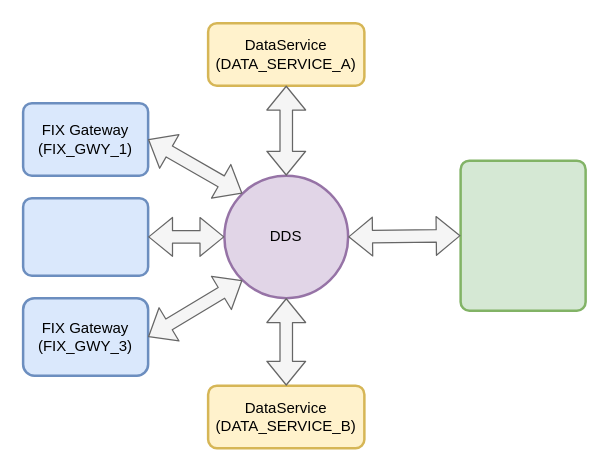
Image size: 608x470. Some labels were removed from this diagram. Each missing label, with the centre of its shape:
FIX Gateway (FIX_GWY_2): point (85, 236)
Matching Engine (UST_MARKET): point (522, 235)
